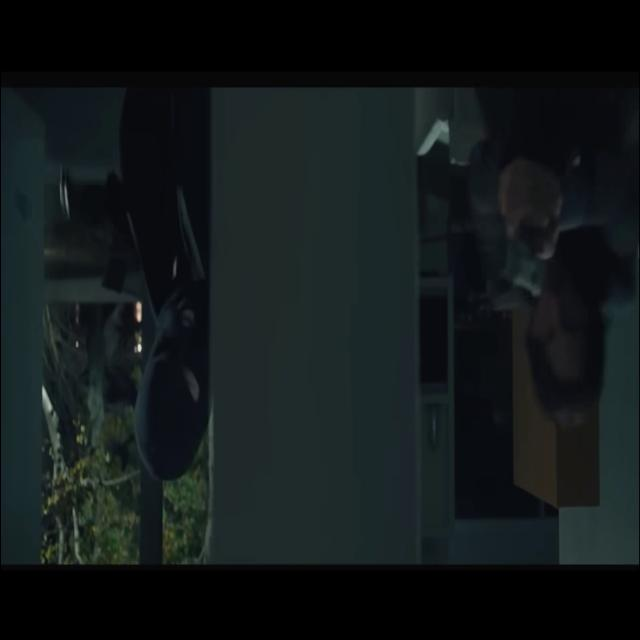weapons: (483, 151, 556, 320)
